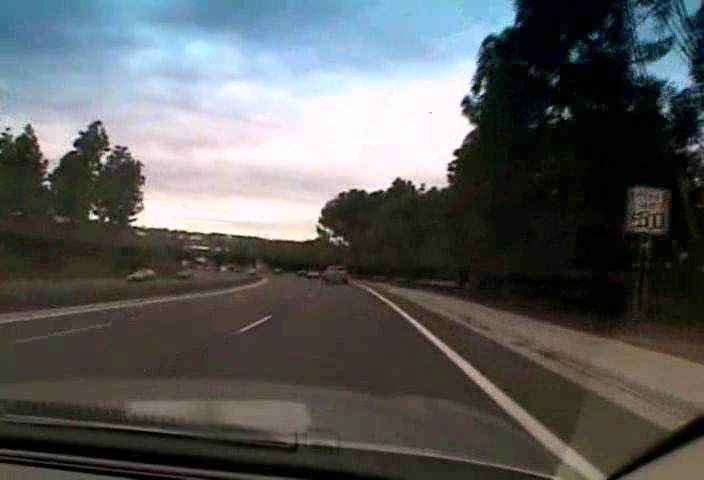speedLimit50: (626, 185, 668, 234)
